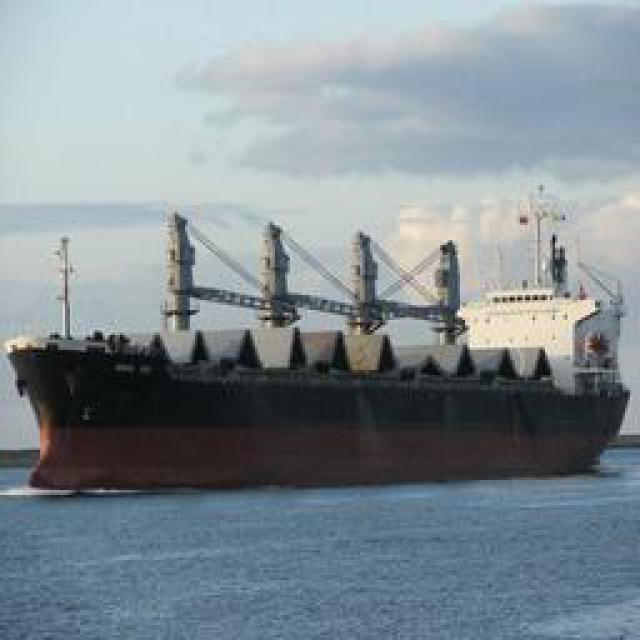Ship: (10, 206, 633, 479)
